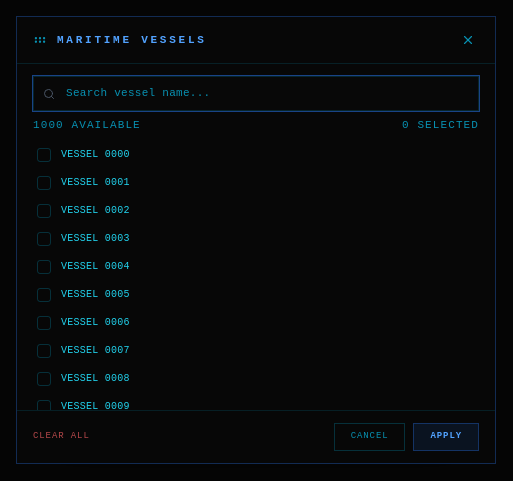
Test case: AdvancedFilterModal large option lists › renders the whole list once the search narrows it
This screenshot has width=513, height=481.
In the field with placeholder "Search vessel name...": (256, 94) [33,76,479,111], type "VESSEL 09"
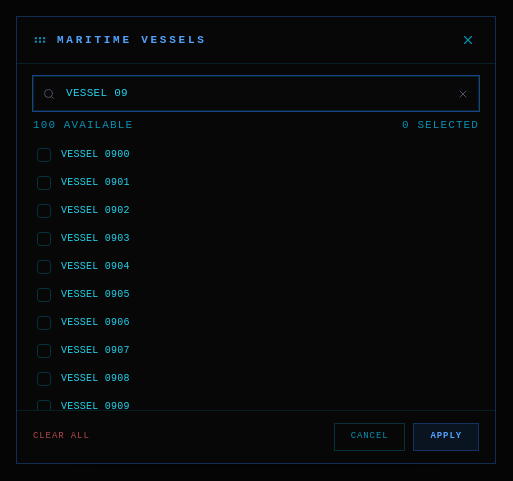
Expected: the text "100 AVAILABLE" is shown, [33,117,133,133]
